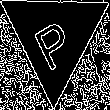P_NW: (29, 6, 80, 69)
